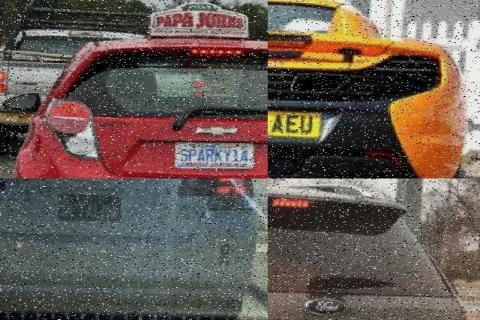LicensePlate: (176, 140, 255, 166), (59, 191, 125, 222), (266, 110, 322, 136)
